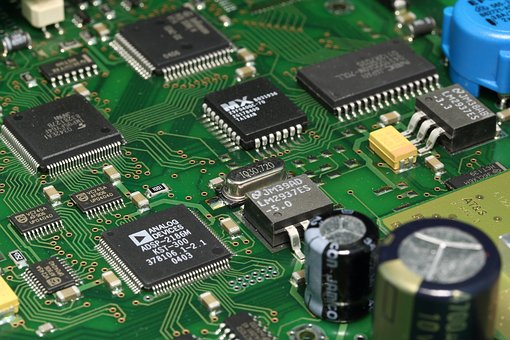capacitor: (376, 218, 501, 340), (304, 210, 374, 323)
